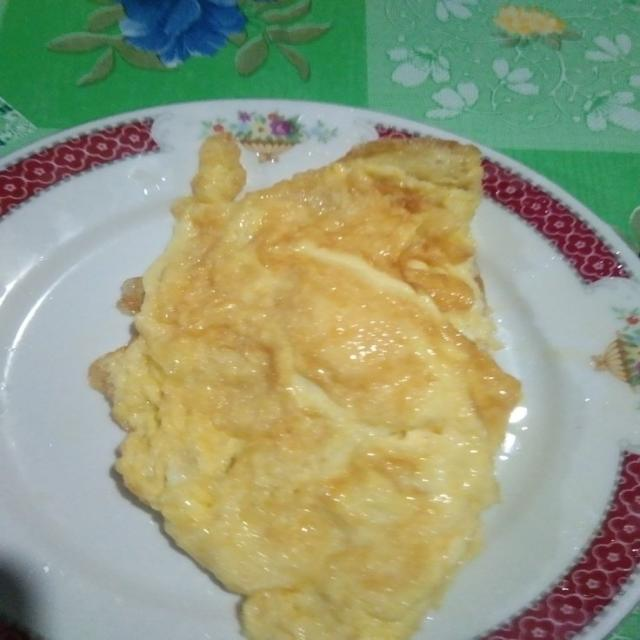omelette: (92, 136, 519, 639)
